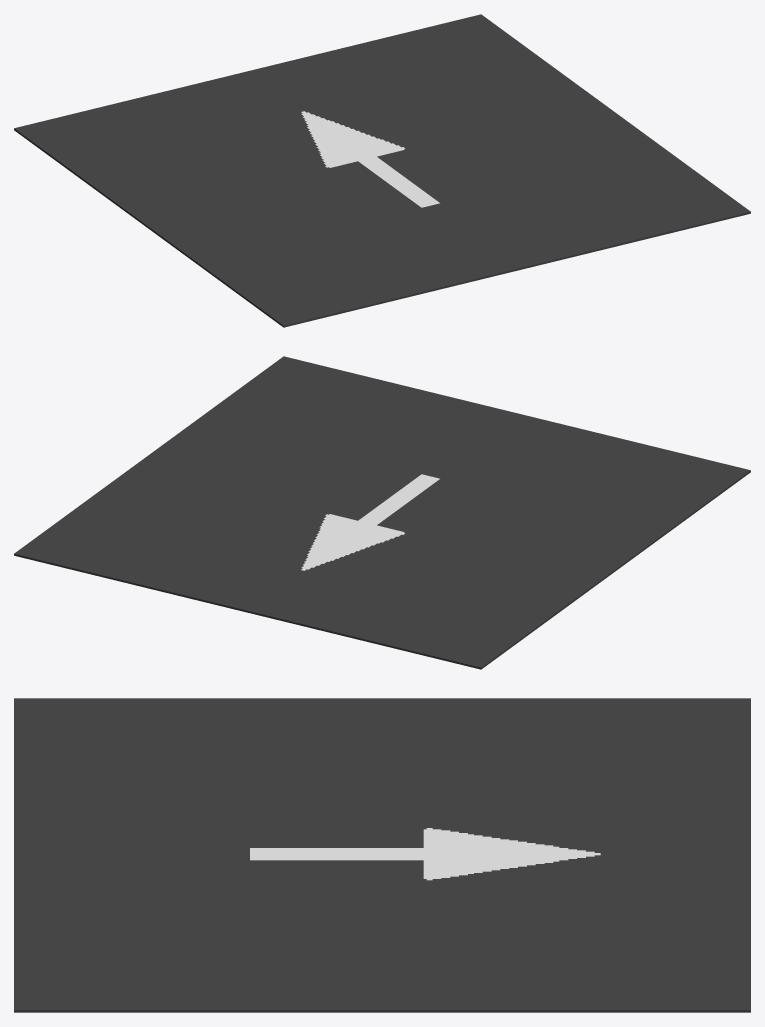
The model's file is parking_ground_arrow.vox.obj.
3 renders of one model, top to bottom at view 1: azimuth 30°, elevation 25°; view 2: azimuth 150°, elevation 25°; view 3: azimuth 270°, elevation 25°, orthographic. The views are drawn at different scales.
Bounding box in the file's own units: 25 × 0.1 × 25.
1 material, 1 textured.
